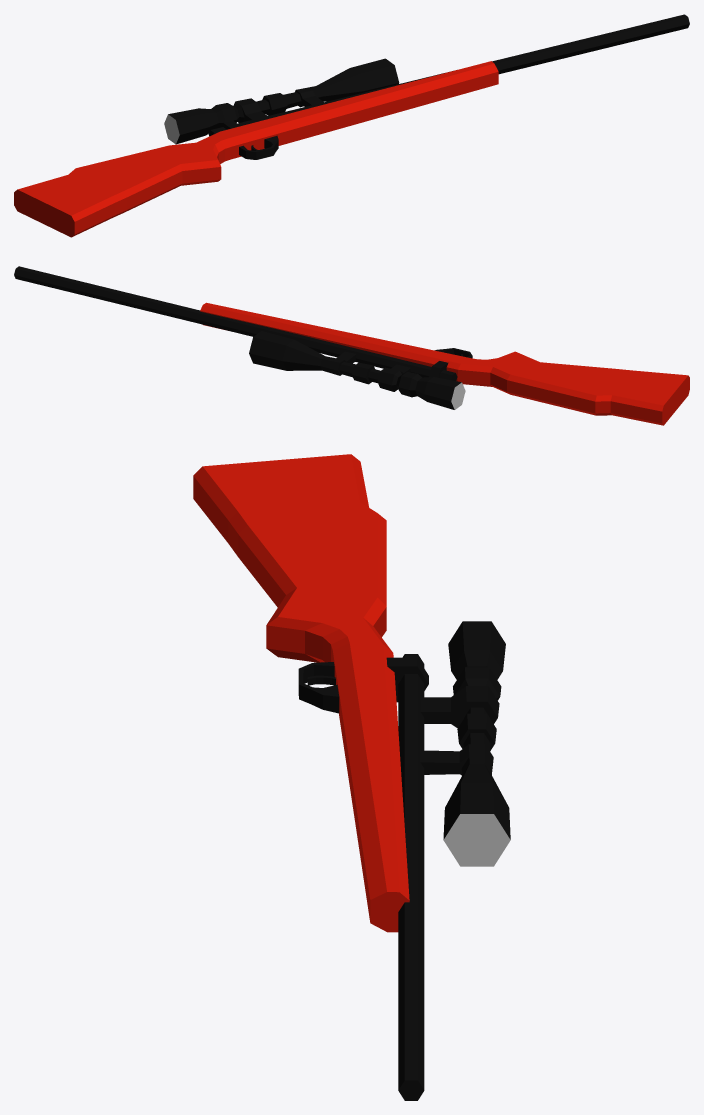
Rendered from rifle_lowpoly.obj.
3 renders of one model, top to bottom at view 1: azimuth 30°, elevation 25°; view 2: azimuth 150°, elevation 25°; view 3: azimuth 270°, elevation 25°, orthographic. The views are drawn at different scales.
Visible parts, largest first — view 1: rifle_mesh; view 2: rifle_mesh; view 3: rifle_mesh.
Part boxes in pixels (x1,y1,x2,y2): rifle_mesh: [14, 14, 689, 237]; rifle_mesh: [14, 266, 689, 425]; rifle_mesh: [193, 454, 510, 1100].
Bounding box in the file's own units: 22.06 × 0.8799 × 4.8.
